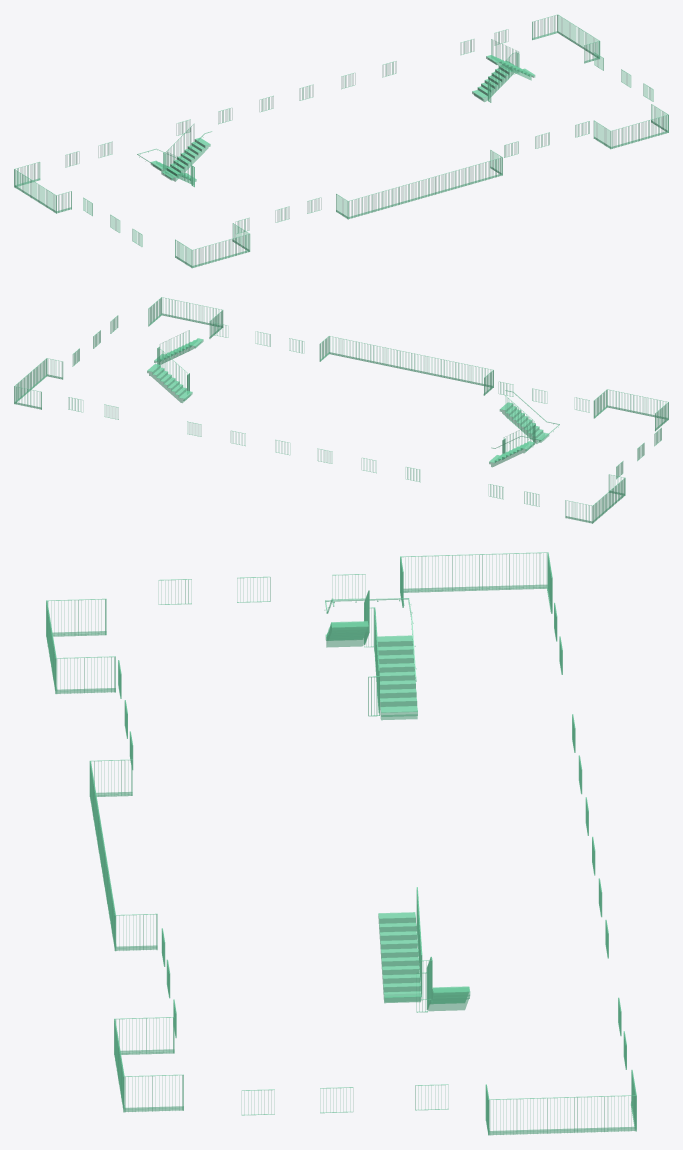
File: Level_02_circulation.glb
The picture shows the model from 3 angles, top to bottom: view 1: azimuth 30°, elevation 25°; view 2: azimuth 150°, elevation 25°; view 3: azimuth 270°, elevation 25°; orthographic projection. The views are drawn at different scales.
Visible parts, largest first — view 1: world; view 2: world; view 3: world.
Boxes of the visible parts, box(x1,y1,x2,y2) form: world: box(14, 14, 668, 268); world: box(14, 297, 668, 523); world: box(46, 552, 636, 1135).
Size of the model in its own units: 42.18 by 4.56 by 19.23.
